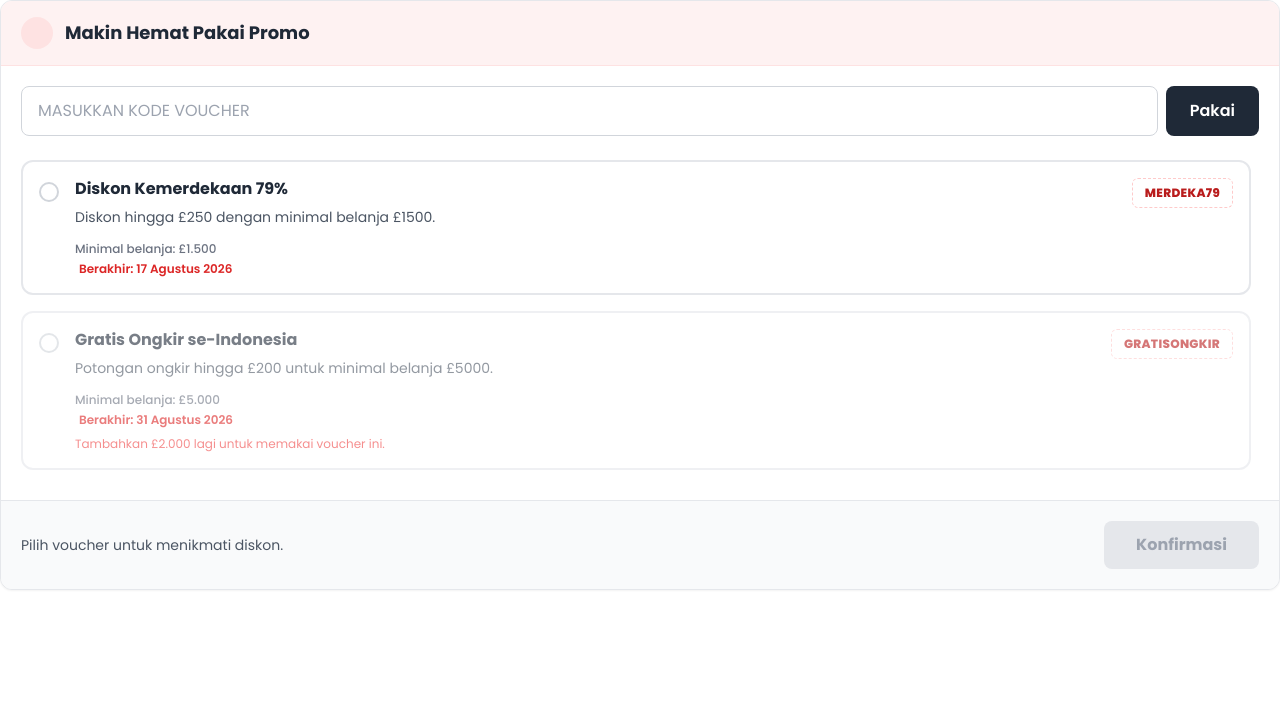
it: CheckoutVoucher › selects voucher and confirms with valid code
The image size is (1280, 720).
In the field with placeholder "Masukkan kode Voucher": (589, 111) [21,86,1158,136], type "merdeka79"
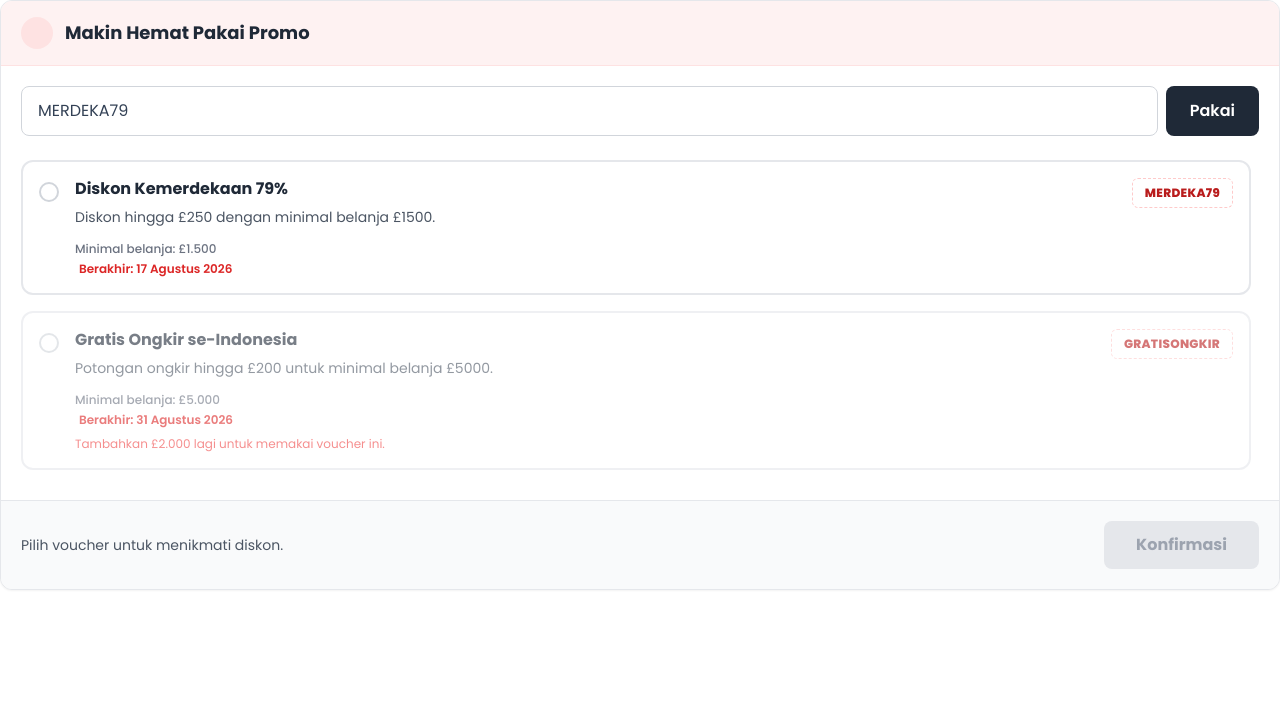
Click the button "Pakai": click(1212, 111) [1166,86,1259,136]
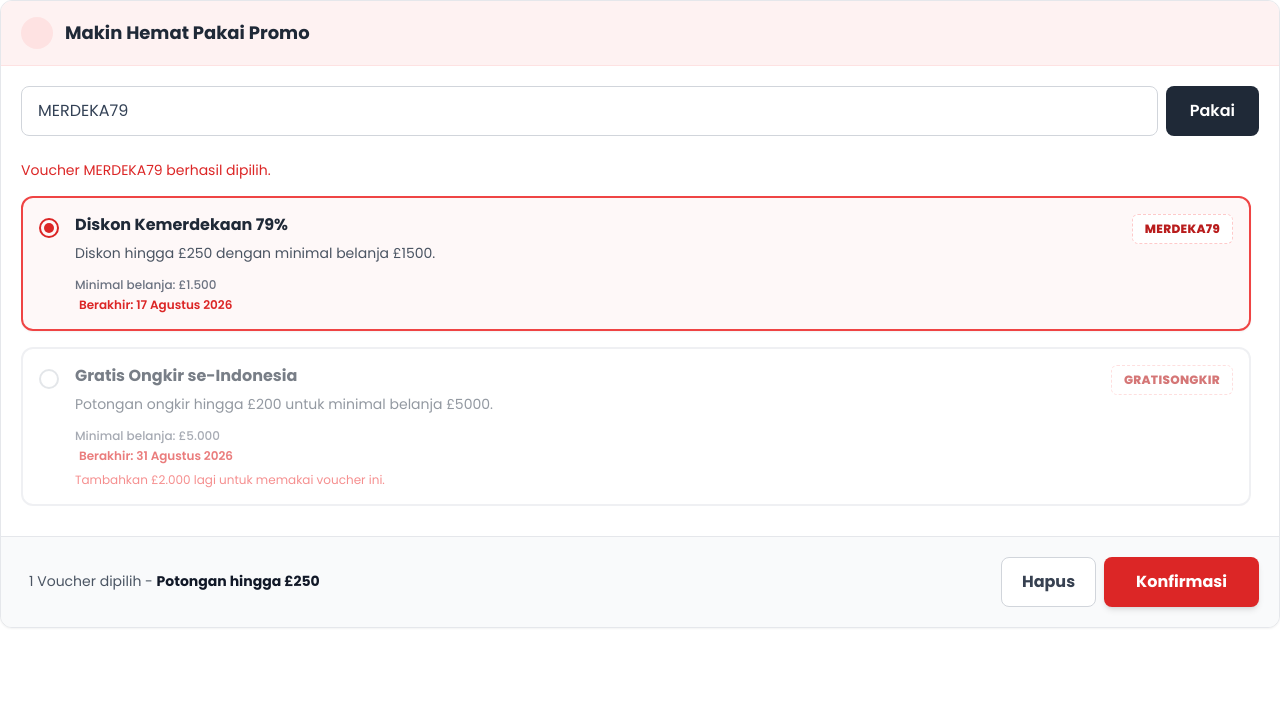
Check: the text "Voucher MERDEKA79 berhasil dipilih." is shown, box [21,160,271,180]
Click the button "Konfirmasi": click(1182, 582) [1104,557,1259,607]
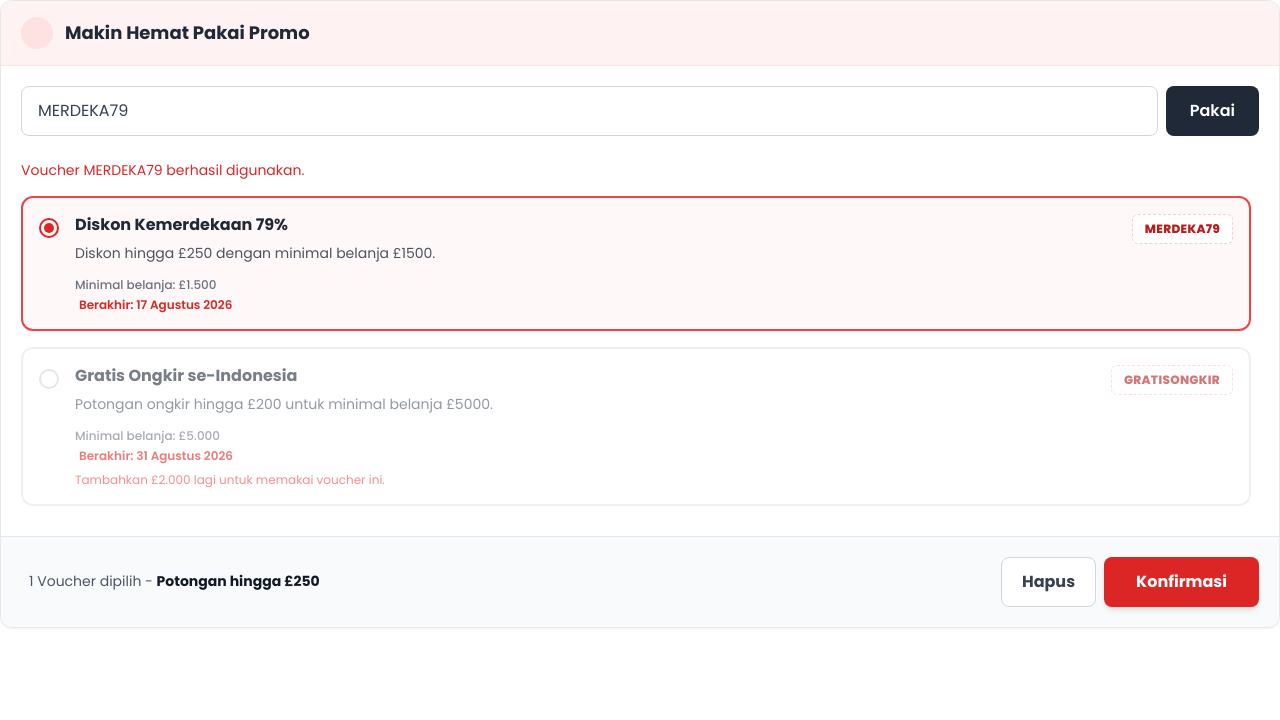
Check: the text "MERDEKA79" is shown, box [1132,214,1233,244]
Check: the text "Voucher MERDEKA79 berhasil digunakan." is shown, box [21,160,304,180]
